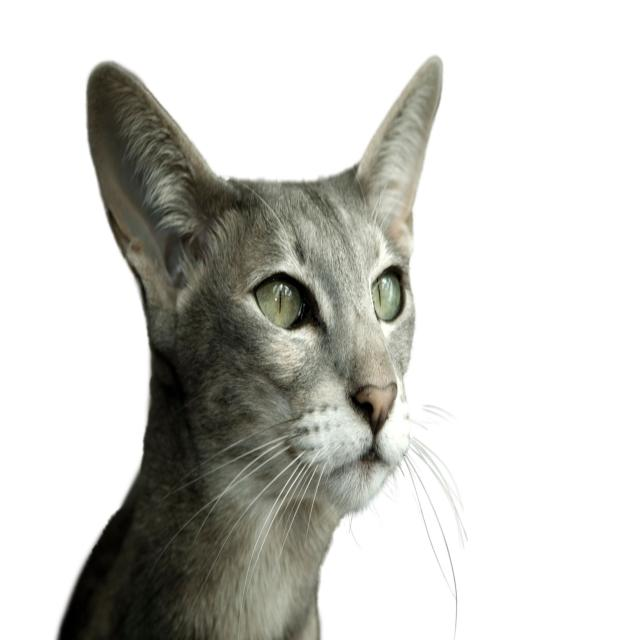Oriental: (49, 49, 447, 640)
